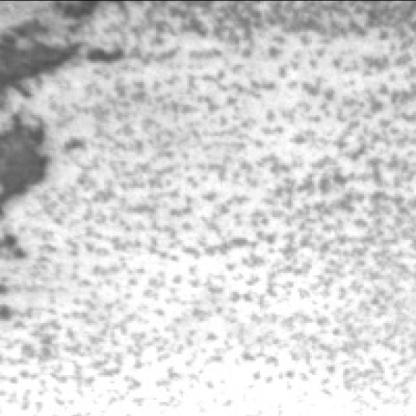patches: (2, 10, 96, 102), (4, 112, 52, 214)
pitted_surface: (39, 2, 416, 409)
